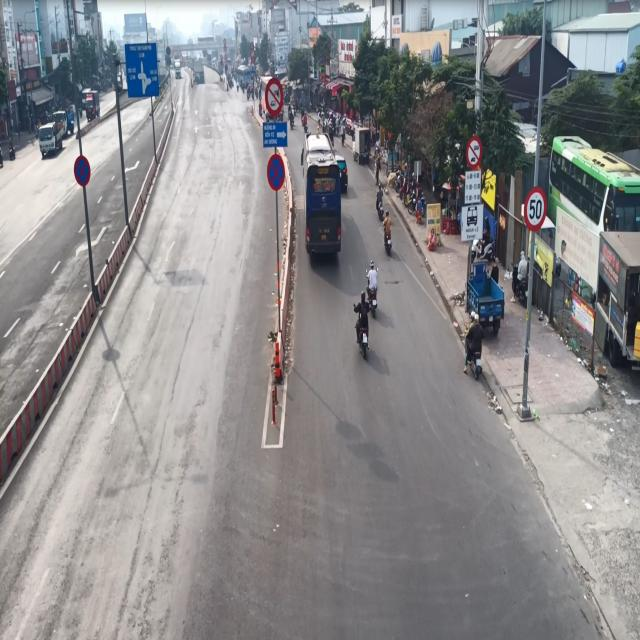bus: (300, 130, 344, 272)
motor: (351, 284, 374, 366), (365, 259, 381, 313), (382, 207, 394, 256)
